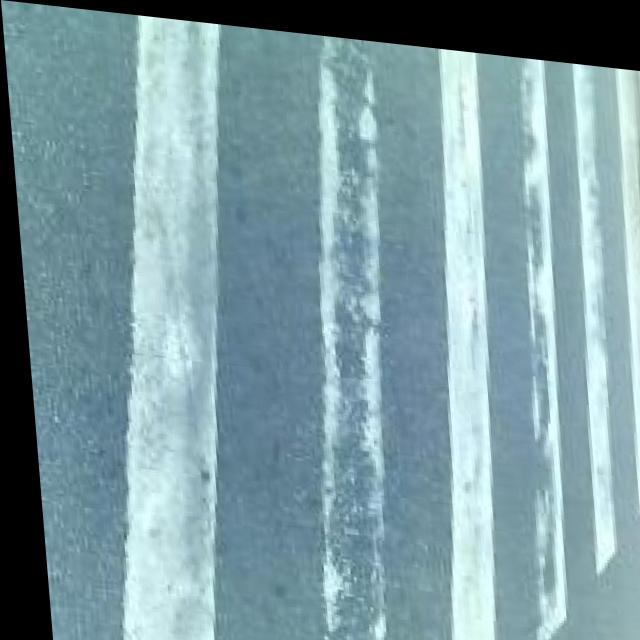zebra: (0, 4, 640, 565)
